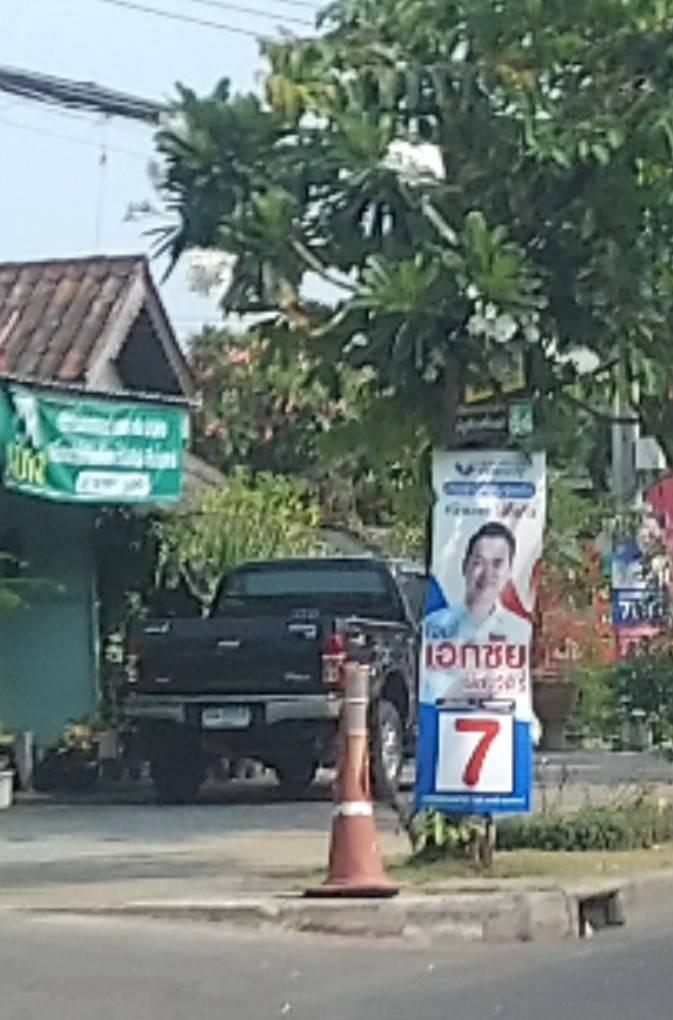Banner: (408, 449, 559, 822)
